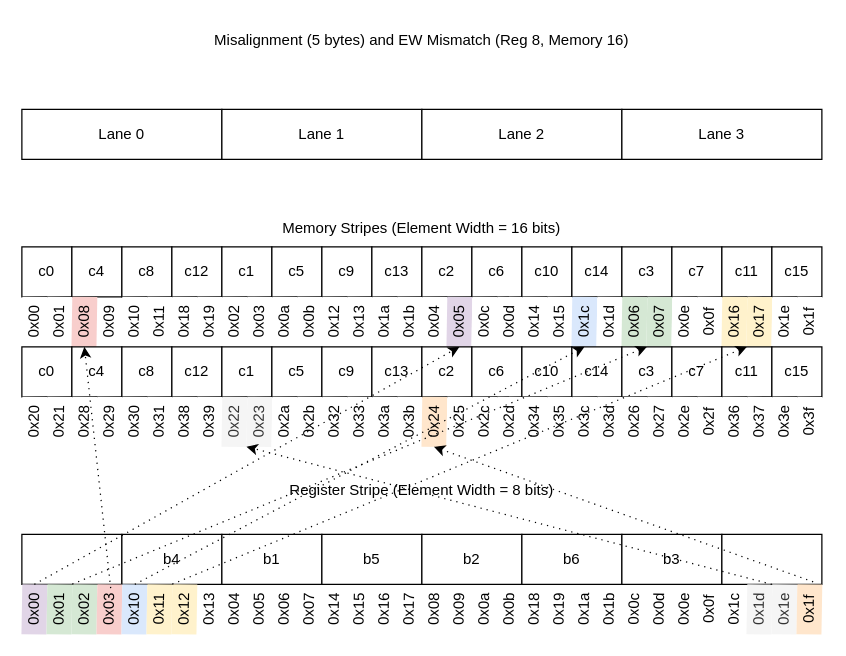
The diagram is 846 pixels wide and 656 high, and some of its shapes have lost their labels. Here are the shapes that lost their labels. From the top down, the centre of each, then its label:
At point (71, 558): "b0".
At point (771, 558): "b7".
